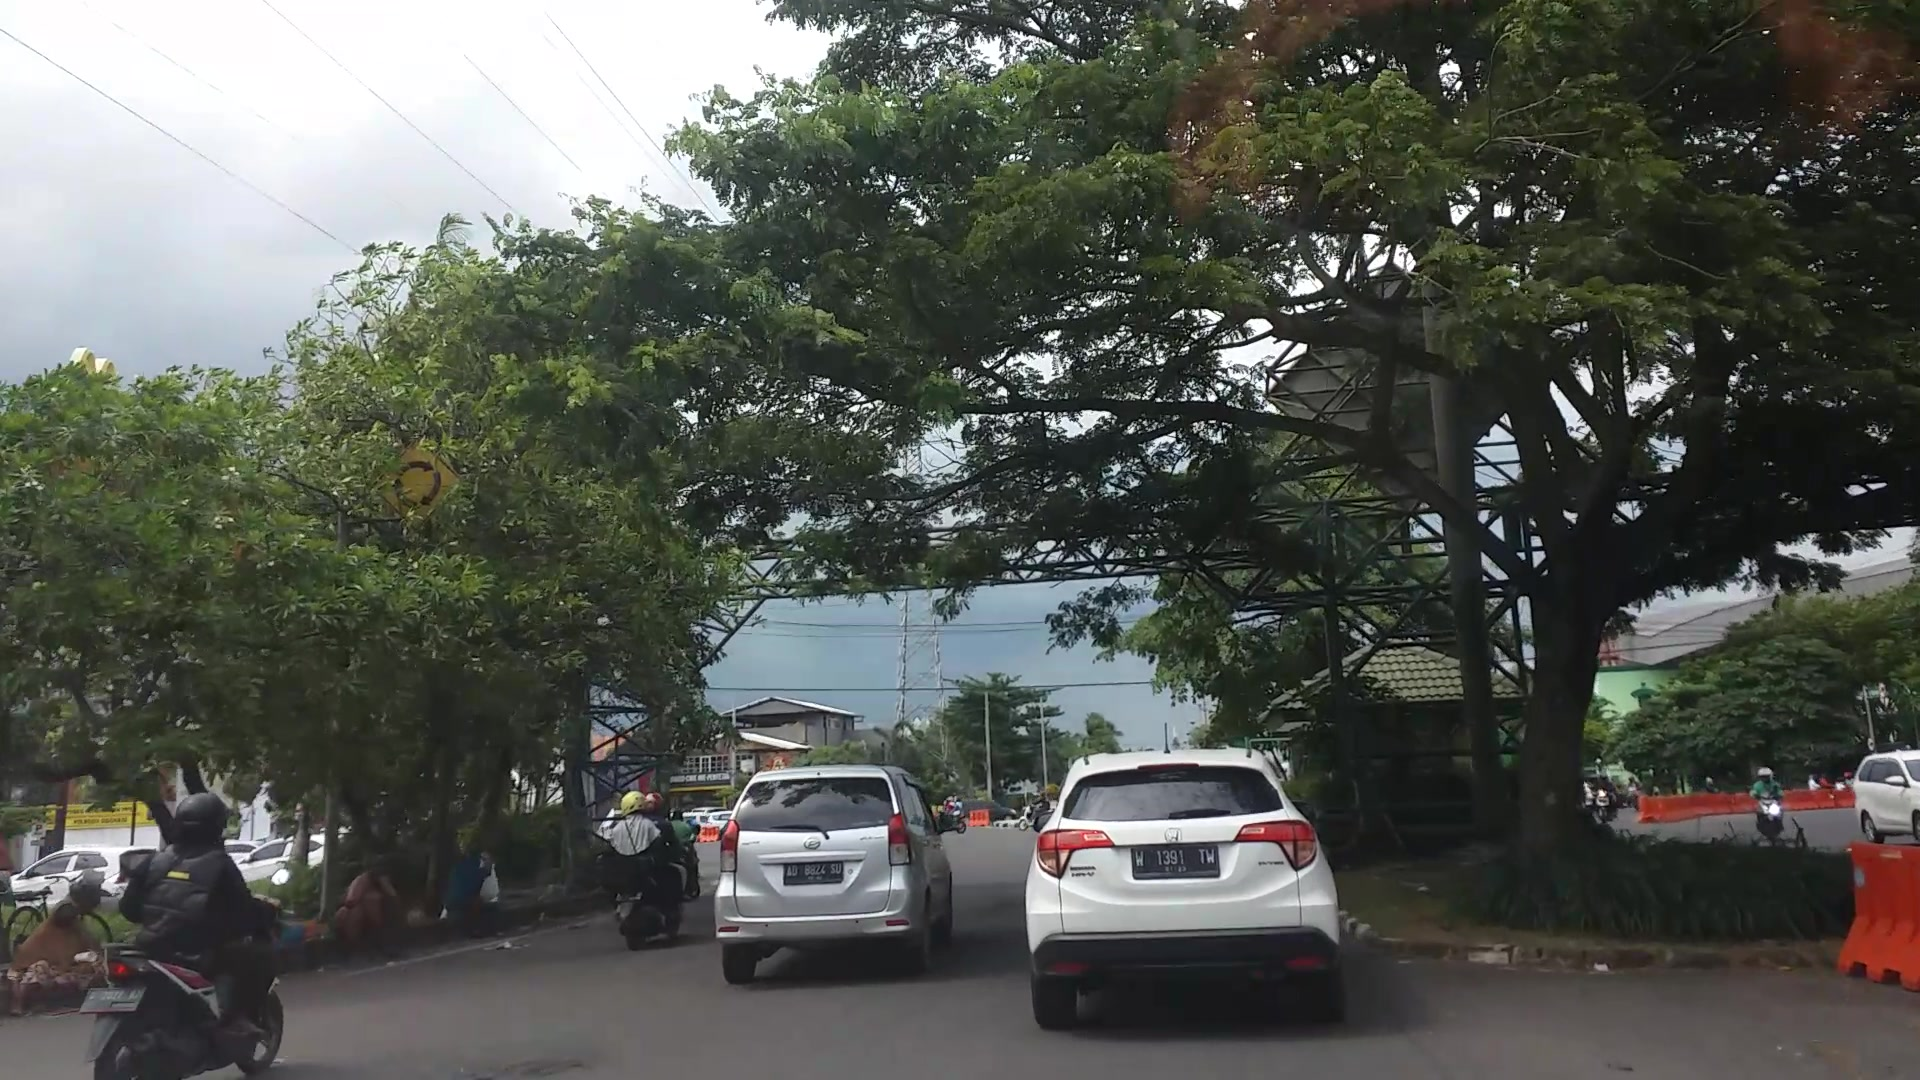plate_positive: (1131, 845, 1220, 880), (783, 861, 843, 886)
